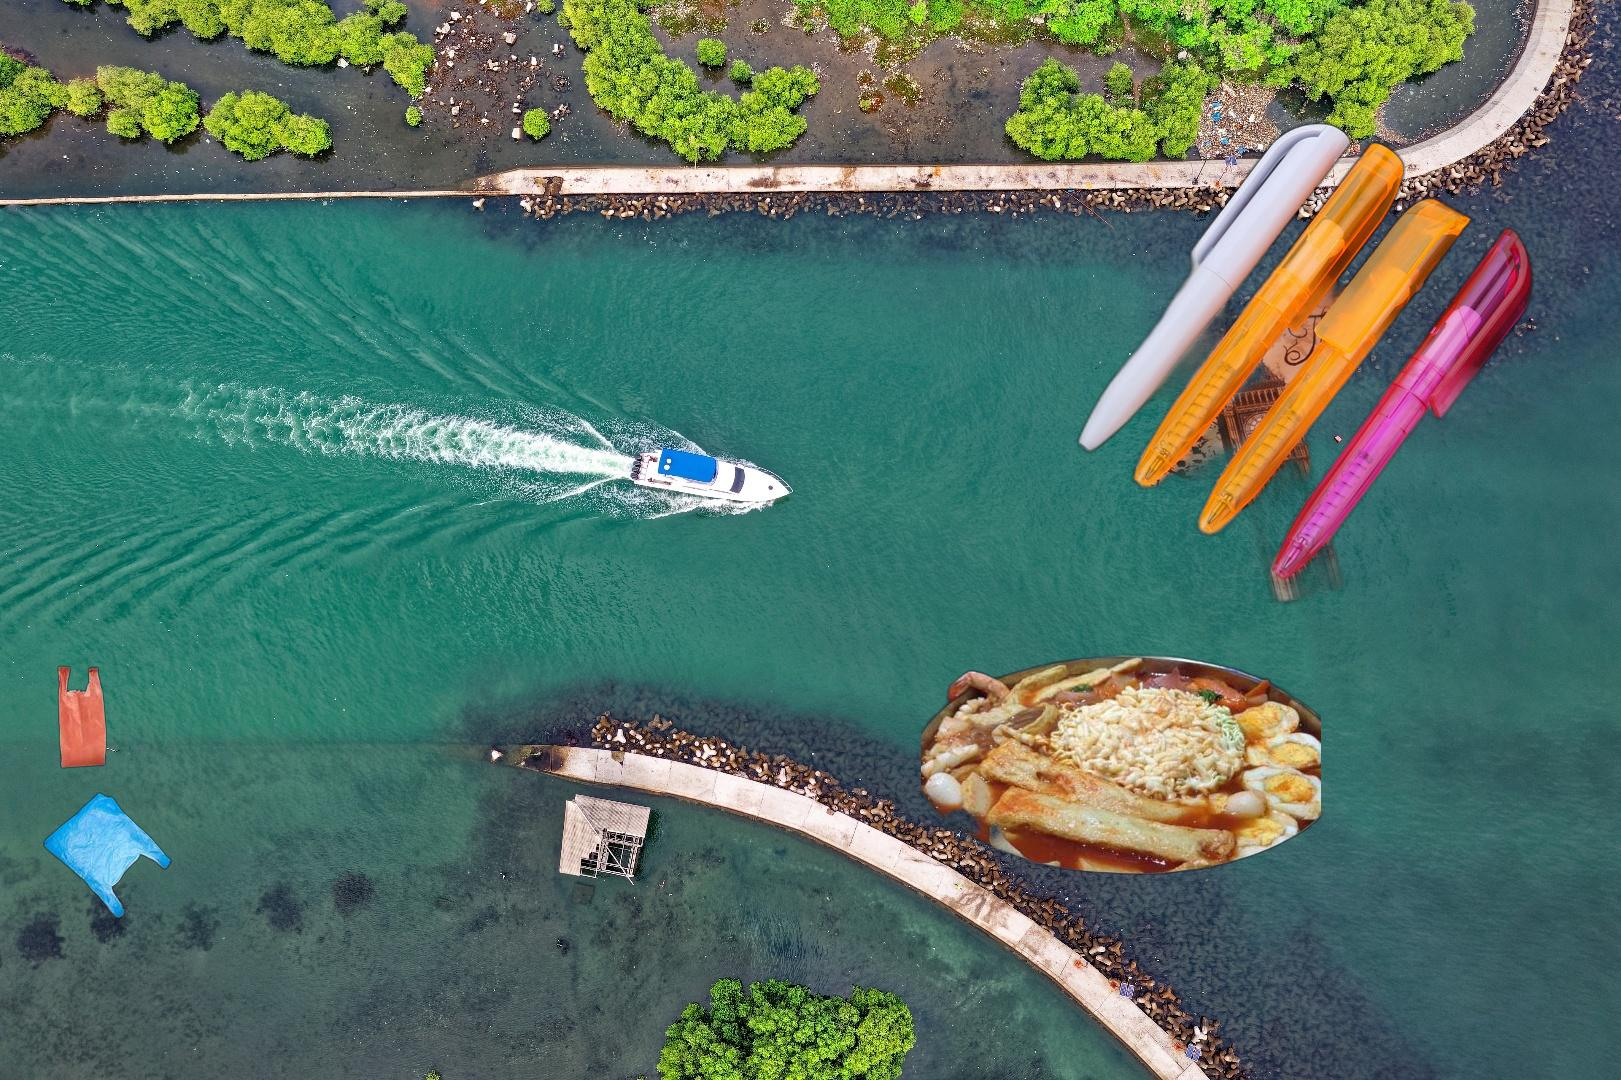biological: (921, 651, 1321, 877)
penholder: (1071, 115, 1621, 704)
plastic-bag: (41, 665, 174, 920)
